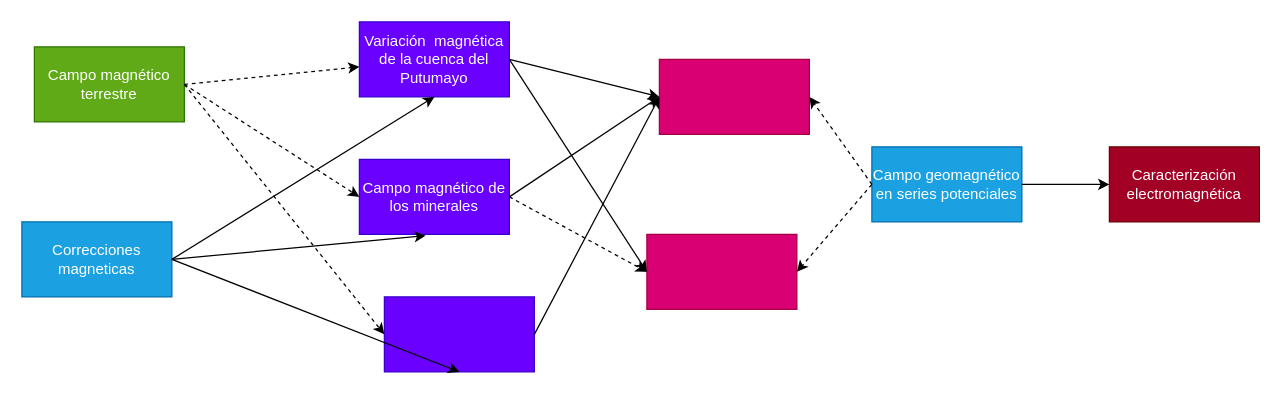
Image size: 1281x404. Some labels were removed from this diagram. Here are the shapes that lost their labels. From the top down, the box of each, then its label:
(658, 58, 809, 134): Campo magnético del dipolo terrestre
(646, 233, 797, 309): Dipolo terrestre
(383, 296, 534, 372): Campo magnético de los materiales geológicos
